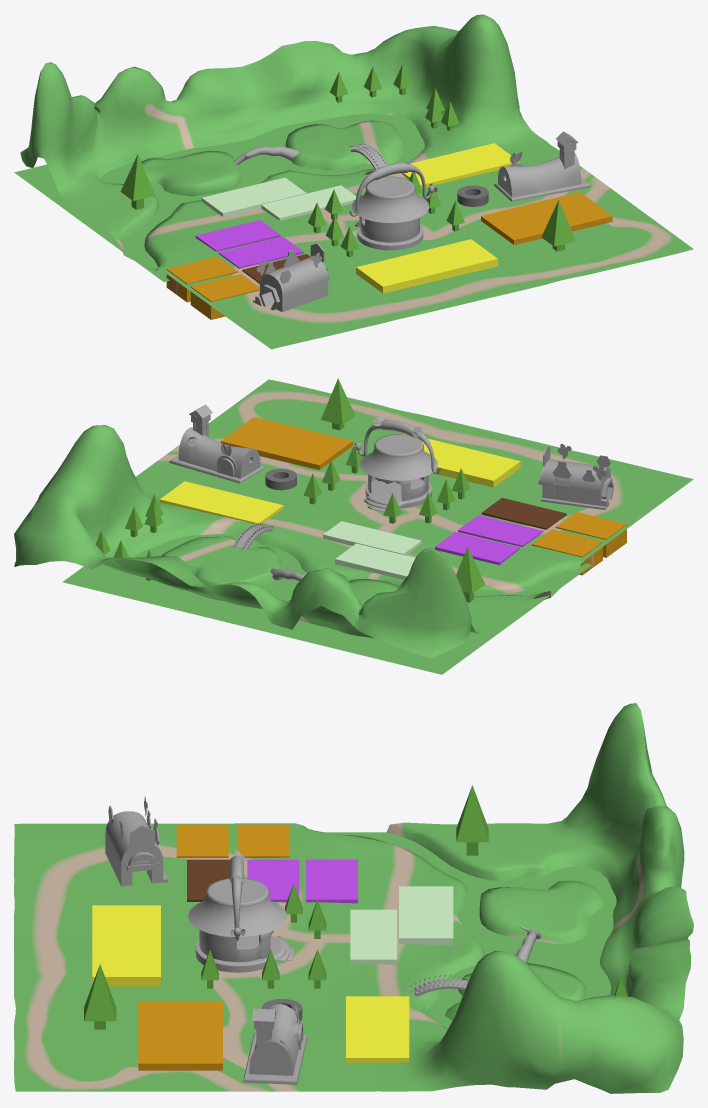
The model's file is bee_envrmnt.fbx.
3 renders of one model, top to bottom at view 1: azimuth 30°, elevation 25°; view 2: azimuth 150°, elevation 25°; view 3: azimuth 270°, elevation 25°, orthographic. The views are drawn at different scales.
Visible parts, largest first — view 1: ground, water, exterior (×2), flower_garden8, flower_garden7, pCylinder2, flower_garden, flower_garden2, flower_garden1, flower_garden6, flower_garden3, flower_garden9 (+9 smaller); view 2: ground, water, exterior (×2), flower_garden7, flower_garden, pCylinder2, flower_garden8, flower_garden2, flower_garden1, flower_garden3, flower_garden4, flower_garden5 (+10 smaller); view 3: ground, water, flower_garden7, flower_garden8, exterior (×2), flower_garden, pCylinder2, flower_garden2, flower_garden1, flower_garden3, flower_garden6, flower_garden9 (+9 smaller).
Part boxes in pixels (<box>): ground: <box>20,14,693,349</box>; water: <box>14,113,424,281</box>; exterior (×2): <box>260,153,581,312</box>; flower_garden8: <box>356,239,497,293</box>; flower_garden7: <box>481,192,612,244</box>; pCylinder2: <box>351,176,429,222</box>; flower_garden: <box>401,143,519,188</box>; flower_garden2: <box>201,177,306,216</box>; flower_garden1: <box>261,185,356,220</box>; flower_garden6: <box>190,274,259,319</box>; flower_garden3: <box>195,220,280,251</box>; flower_garden9: <box>166,256,237,302</box>; ground: <box>14,379,693,658</box>; water: <box>62,534,591,674</box>; exterior (×2): <box>178,427,611,505</box>; flower_garden7: <box>220,417,352,469</box>; flower_garden: <box>159,481,283,524</box>; pCylinder2: <box>360,434,437,480</box>; flower_garden8: <box>404,433,520,487</box>; flower_garden2: <box>335,543,415,579</box>; flower_garden1: <box>323,521,421,555</box>; flower_garden3: <box>435,532,519,564</box>; flower_garden4: <box>458,515,543,546</box>; flower_garden5: <box>481,498,566,529</box>; ground: <box>14,703,693,1093</box>; water: <box>325,832,616,1028</box>; flower_garden7: <box>138,1002,222,1070</box>; flower_garden8: <box>92,905,160,986</box>; exterior (×2): <box>105,811,300,1075</box>; flower_garden: <box>346,996,409,1062</box>; pCylinder2: <box>187,878,287,937</box>; flower_garden2: <box>399,886,453,945</box>; flower_garden1: <box>350,909,396,964</box>; flower_garden3: <box>306,859,357,903</box>; flower_garden6: <box>176,824,228,857</box>; flower_garden9: <box>237,824,289,857</box>.
Size of the model in its own units: 264 by 69.82 by 272.
